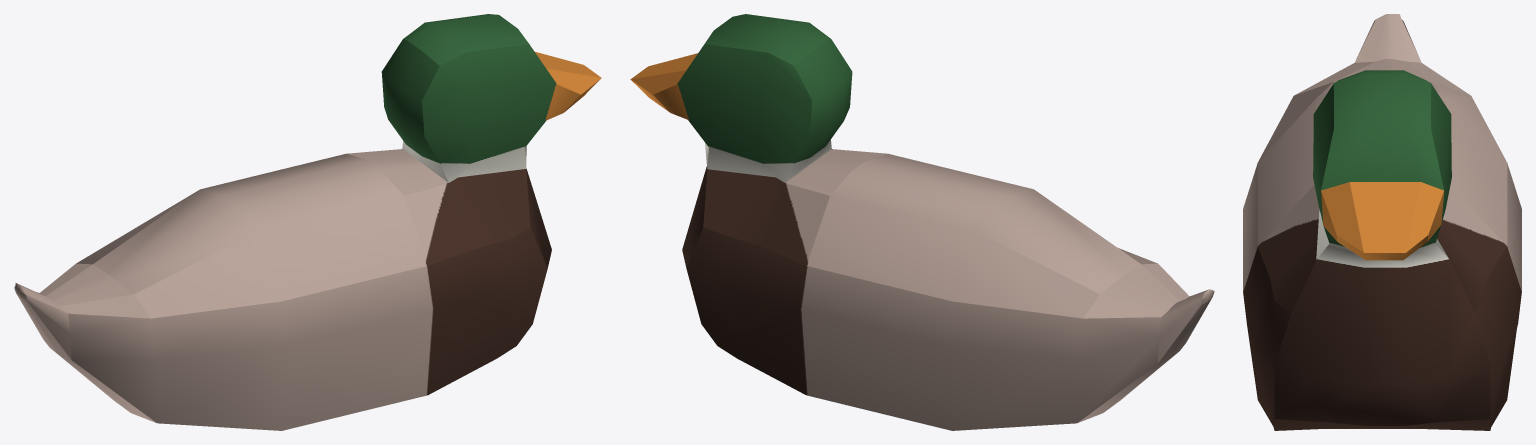
File: Eend_1.fbx
The picture shows the model from 3 angles, left to right: view 1: azimuth 30°, elevation 25°; view 2: azimuth 150°, elevation 25°; view 3: azimuth 270°, elevation 25°; orthographic projection. The views are drawn at different scales.
Parts seen in each view (by area): view 1: Duck_2; view 2: Duck_2; view 3: Duck_2.
Part boxes in pixels (box(x1,y1,x2,y2)): Duck_2: box(14, 14, 601, 430); Duck_2: box(630, 14, 1214, 430); Duck_2: box(1243, 14, 1521, 430).
Bounding box in the file's own units: 3.14 × 1.62 × 1.12.
1 material, 1 textured.
